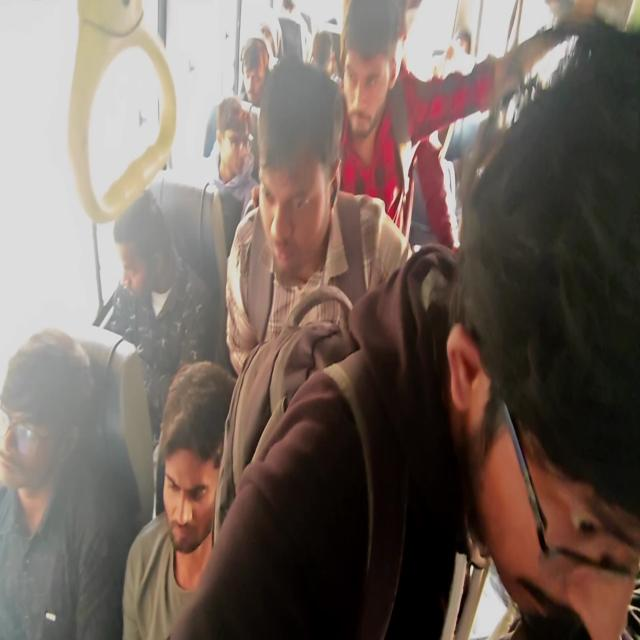person: (491, 143, 640, 611), (166, 380, 273, 576), (4, 347, 88, 499), (106, 190, 183, 312), (269, 121, 336, 251), (208, 105, 260, 207), (369, 0, 403, 125), (452, 18, 503, 92), (235, 22, 282, 97), (254, 0, 292, 53), (303, 29, 335, 86), (524, 70, 550, 115), (318, 13, 336, 37), (284, 0, 305, 20)
